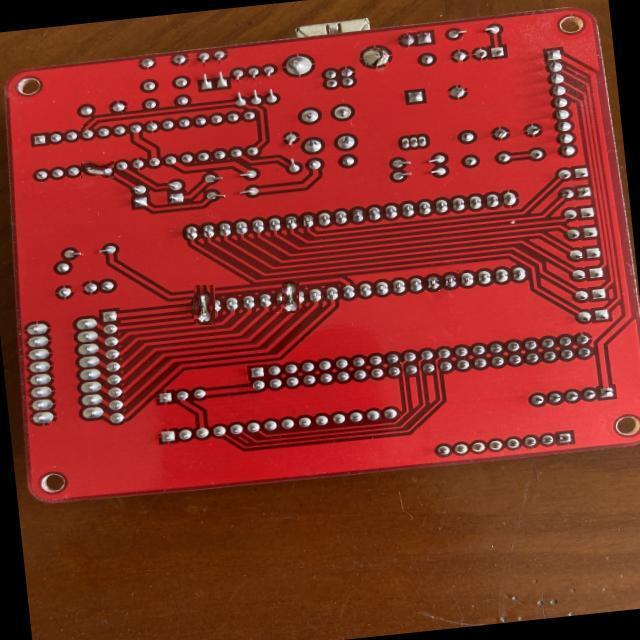damged: (189, 290, 219, 320), (278, 284, 302, 310), (81, 160, 114, 178)
